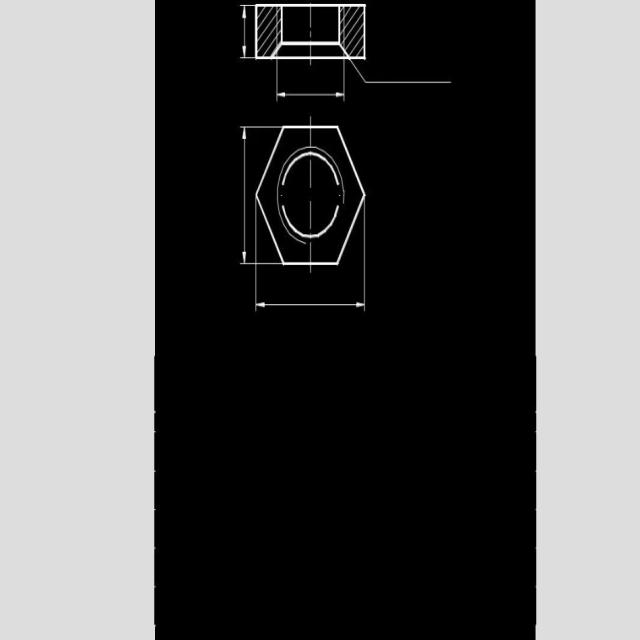marking_line: (254, 266, 367, 312), (275, 61, 345, 101), (237, 125, 255, 268), (238, 3, 254, 60)
